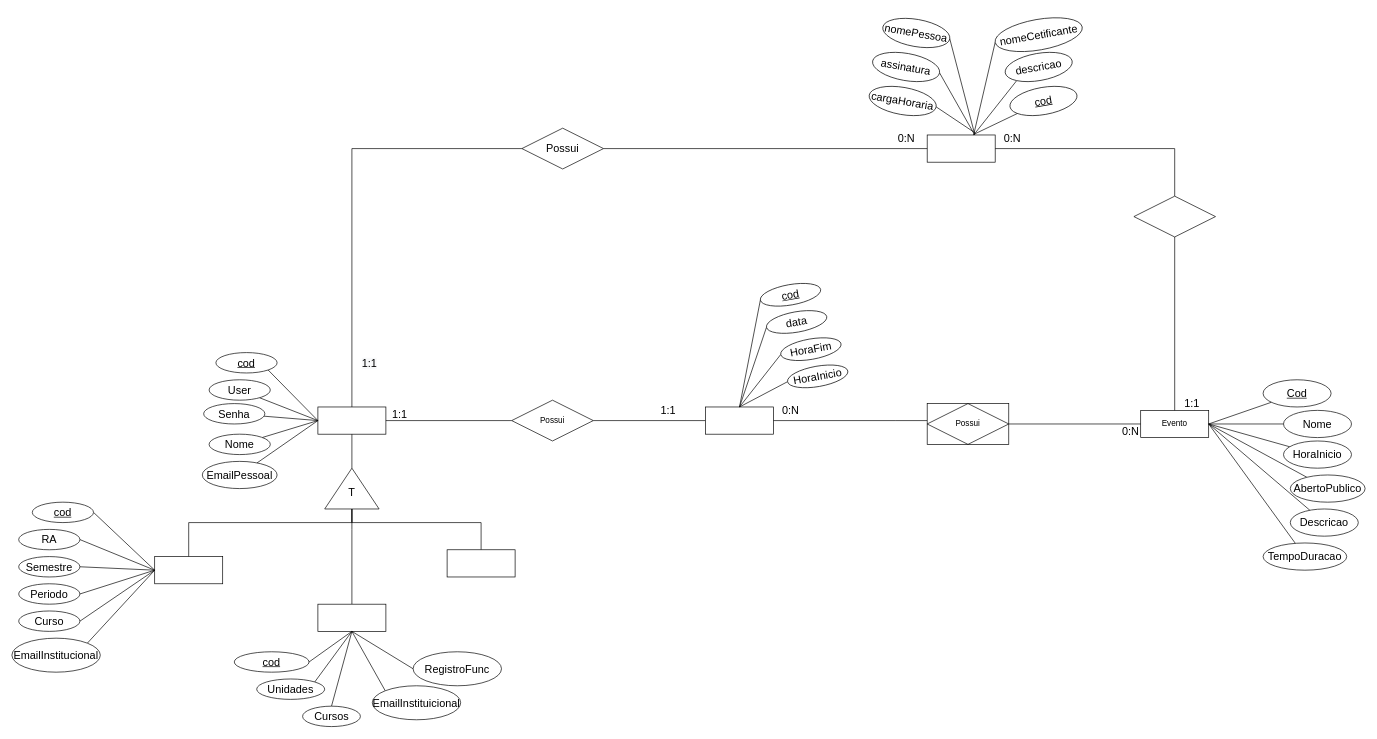
The diagram is 1377 pixels wide and 739 high, and some of its shapes have lost their labels. The centre of each missing label's shape, as x and y in pixels:
Administrador: the point at 351,617
Agenda: the point at 739,420
Certificado: the point at 961,148
Tem: the point at 1174,216
Usuario: the point at 351,420
UsuarioFatec: the point at 188,570
UsuarioPublico: the point at 480,563
